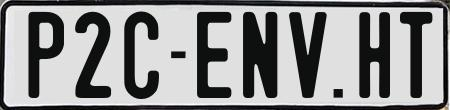2: (73, 12, 110, 103)
C: (124, 11, 164, 99)
E: (195, 9, 230, 95)
H: (358, 9, 395, 101)
N: (243, 11, 283, 99)
P: (26, 12, 64, 104)
T: (400, 9, 434, 101)
V: (288, 12, 331, 104)
